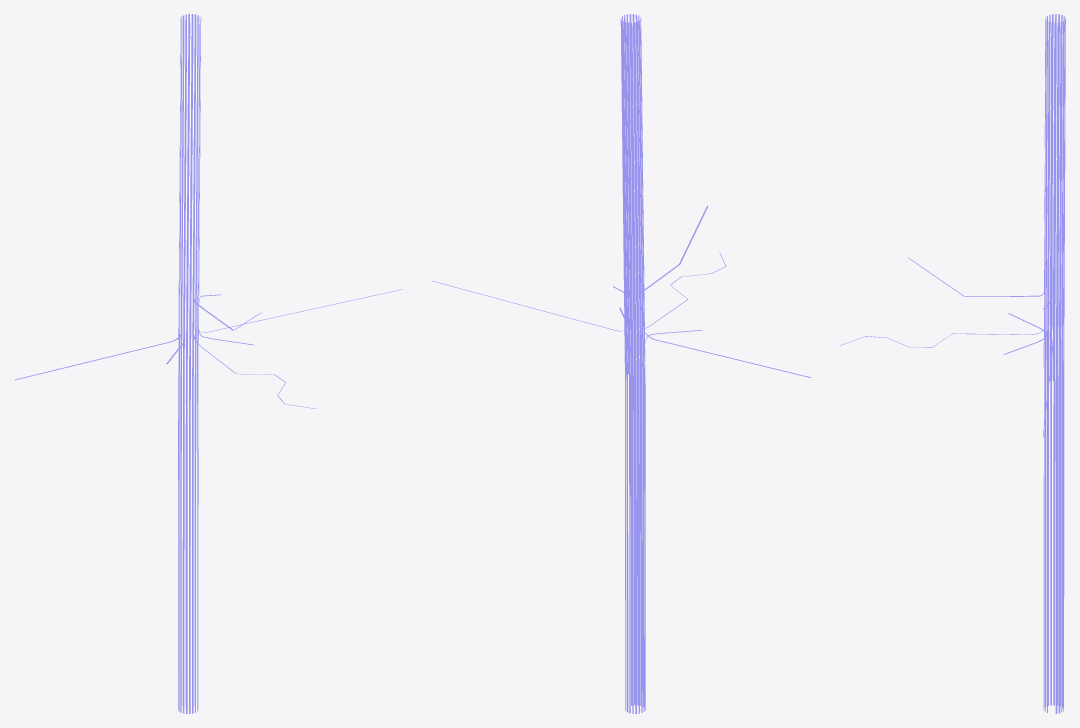
The picture shows the model from 3 angles, left to right: view 1: azimuth 30°, elevation 25°; view 2: azimuth 150°, elevation 25°; view 3: azimuth 270°, elevation 25°; orthographic projection.
Visible parts, largest first — view 1: polySurface6; view 2: polySurface6; view 3: polySurface6.
Part boxes in pixels (left/top/right/bottom): polySurface6: left=15, top=14, right=402, bottom=713; polySurface6: left=431, top=14, right=811, bottom=713; polySurface6: left=840, top=14, right=1065, bottom=713.
Size of the model in its own units: 41764 by 71847 by 21204.
